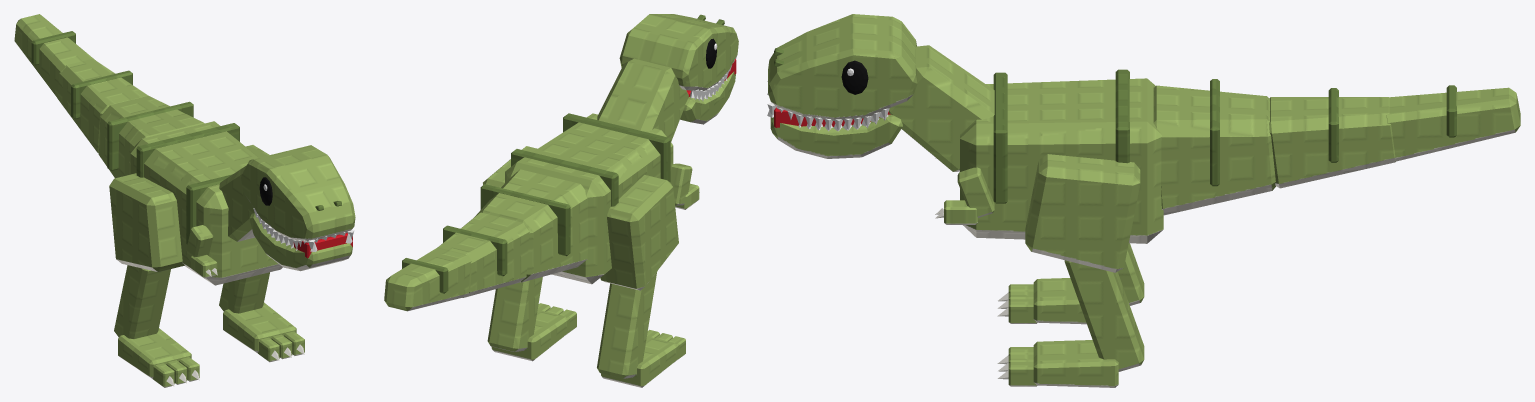
File: 01_Compsognathus.glb
3 renders of one model, left to right at view 1: azimuth 30°, elevation 25°; view 2: azimuth 150°, elevation 25°; view 3: azimuth 270°, elevation 25°, orthographic. The views are drawn at different scales.
Parts seen in each view (by area): view 1: 01_Compsognathus; view 2: 01_Compsognathus; view 3: 01_Compsognathus.
Part boxes in pixels (x1,y1,x2,y2): 01_Compsognathus: (14,14,355,387); 01_Compsognathus: (384,14,738,387); 01_Compsognathus: (767,14,1520,387).
Size of the model in its own units: 1.12 by 1.84 by 4.
1 material, 1 textured.
